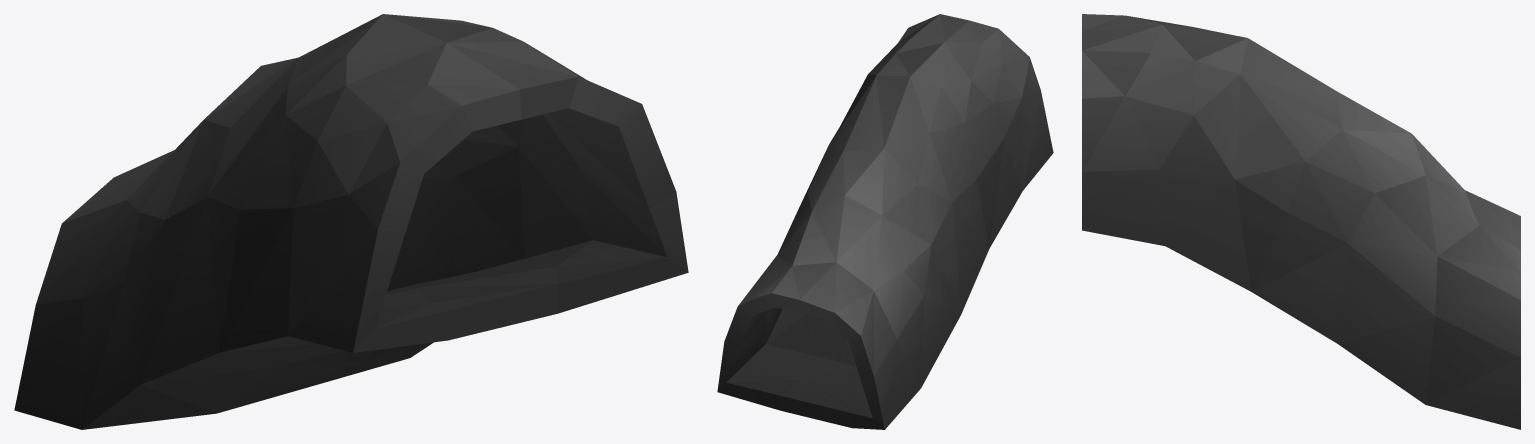
Rendered from GL-Cave-part-04-LOD2.fbx.
The picture shows the model from 3 angles, left to right: view 1: azimuth 30°, elevation 25°; view 2: azimuth 150°, elevation 25°; view 3: azimuth 270°, elevation 25°; orthographic projection. The views are drawn at different scales.
Parts seen in each view (by area): view 1: GL_Cave_part_04; view 2: GL_Cave_part_04; view 3: GL_Cave_part_04.
Boxes of the visible parts, left/top/right/bottom form: GL_Cave_part_04: left=14, top=14, right=688, bottom=429; GL_Cave_part_04: left=717, top=14, right=1053, bottom=429; GL_Cave_part_04: left=1082, top=14, right=1520, bottom=429.
Bounding box in the file's own units: 3.6 × 5.33 × 6.
